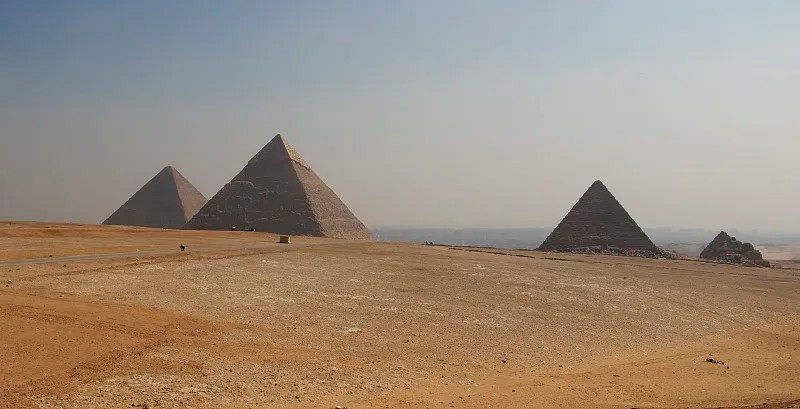Pyramid: (183, 134, 376, 241), (537, 181, 666, 259), (99, 166, 208, 228)
